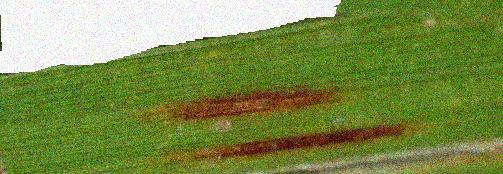leaf_smut: (180, 83, 411, 169)
